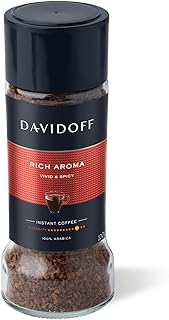Coffee: (2, 1, 118, 320)
